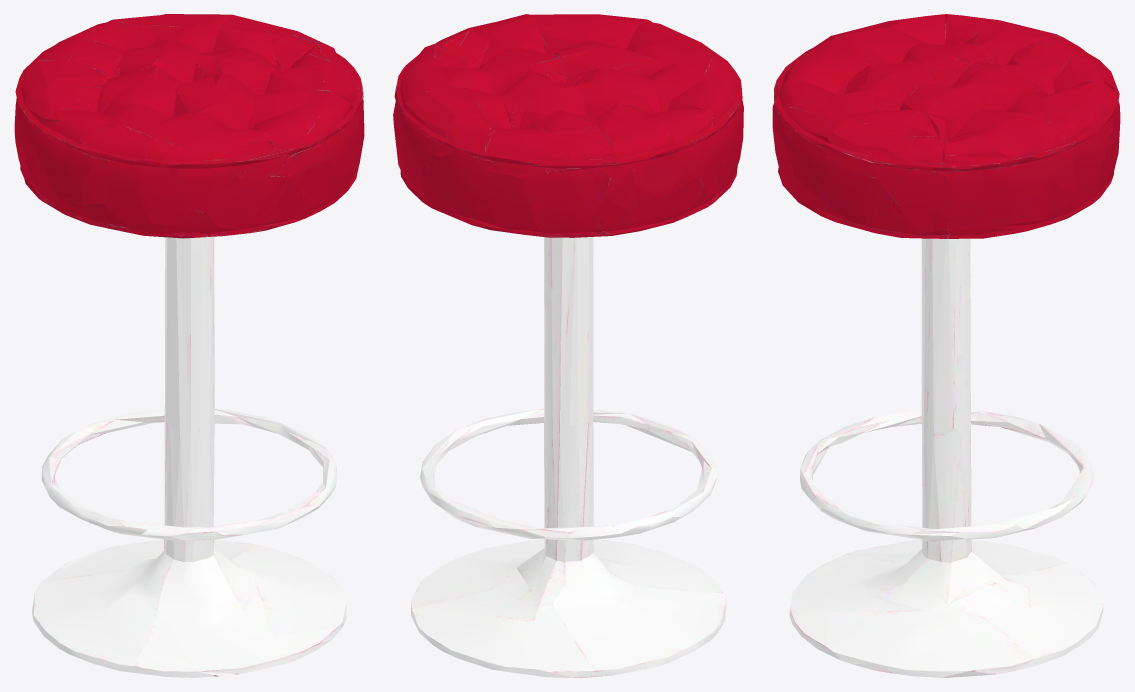
Rendered from bar-stool.glb.
The picture shows the model from 3 angles, left to right: view 1: azimuth 30°, elevation 25°; view 2: azimuth 150°, elevation 25°; view 3: azimuth 270°, elevation 25°; orthographic projection.
Bounding box in the file's own units: 1.11 × 1.9 × 1.11.
Materials: 1 (1 with a texture image).
